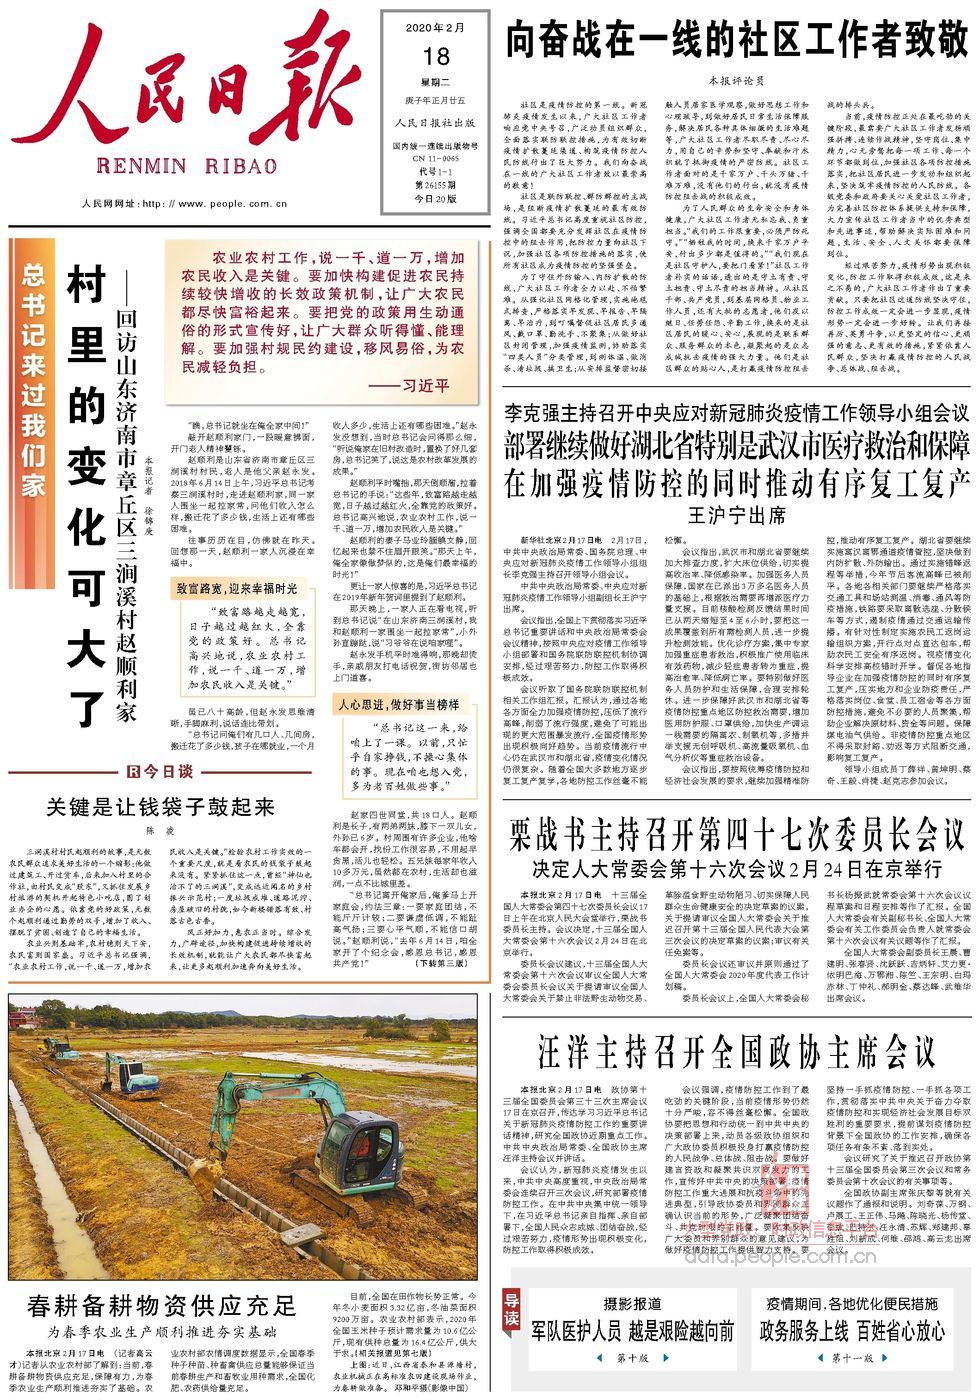pic: (5, 989, 484, 1285)
